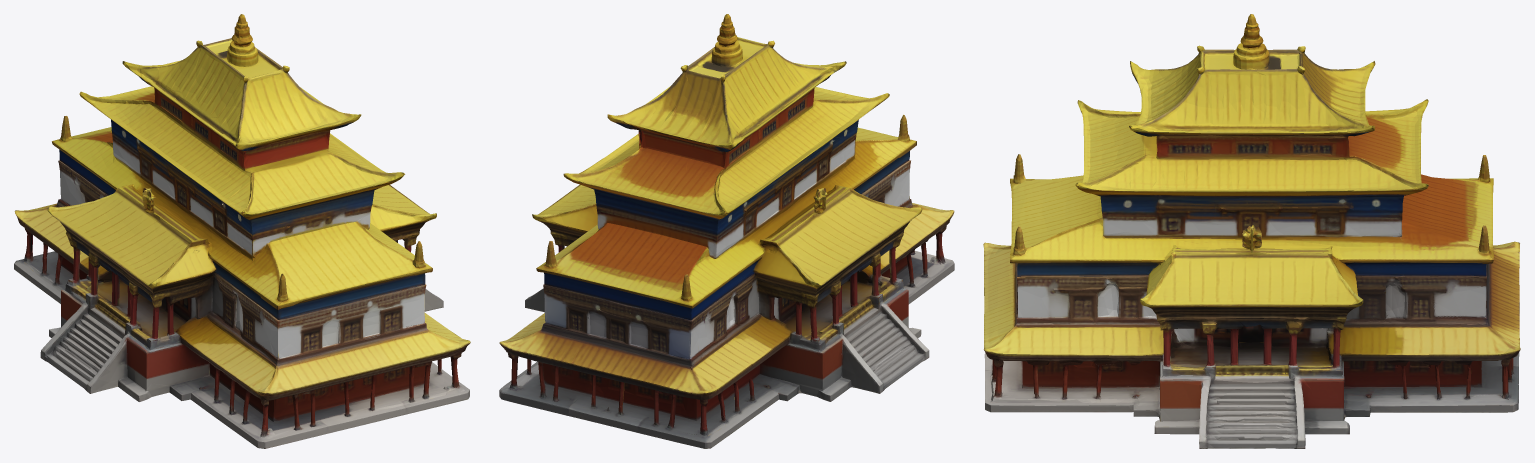
The model's file is rumtek.glb.
The picture shows the model from 3 angles, left to right: view 1: azimuth 30°, elevation 25°; view 2: azimuth 150°, elevation 25°; view 3: azimuth 270°, elevation 25°; orthographic projection. The views are drawn at different scales.
Parts seen in each view (by area): view 1: world; view 2: world; view 3: world.
Boxes of the visible parts, bbox=[...] form: world: bbox=[14, 14, 470, 448]; world: bbox=[499, 14, 954, 448]; world: bbox=[983, 14, 1520, 448].
Size of the model in its own units: 0.8174 by 0.704 by 1.
1 material, 1 textured.
